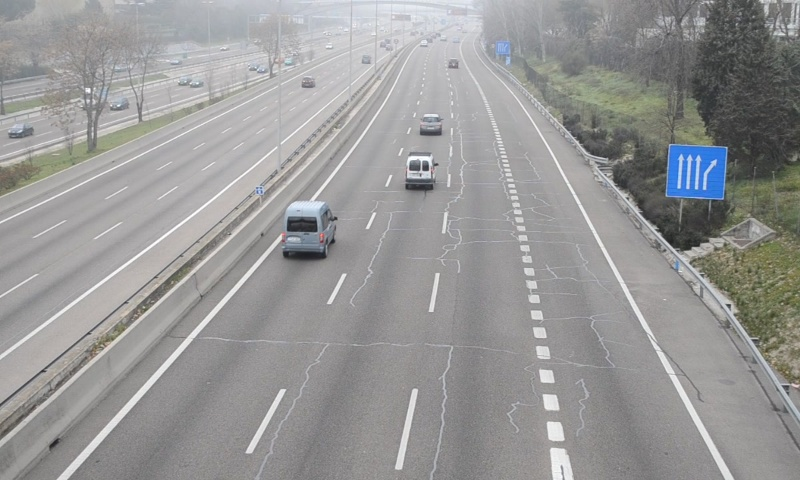car: (418, 114, 443, 136)
van: (280, 202, 334, 255), (404, 153, 434, 187)
